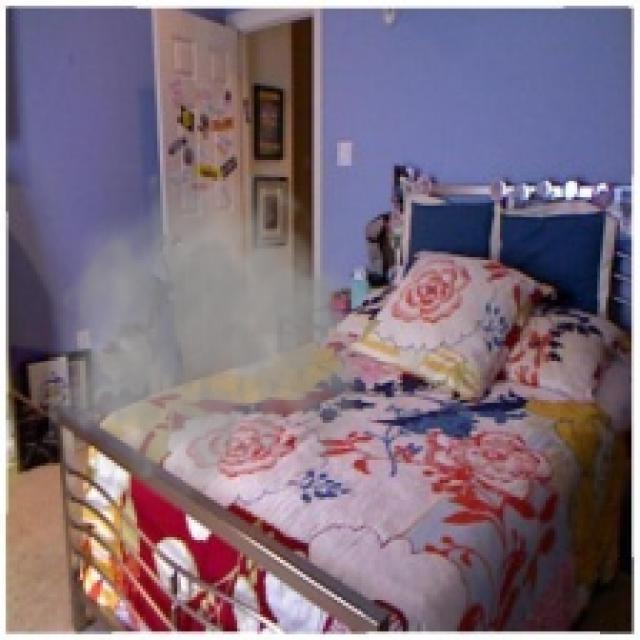Smoke: (48, 160, 394, 509)
